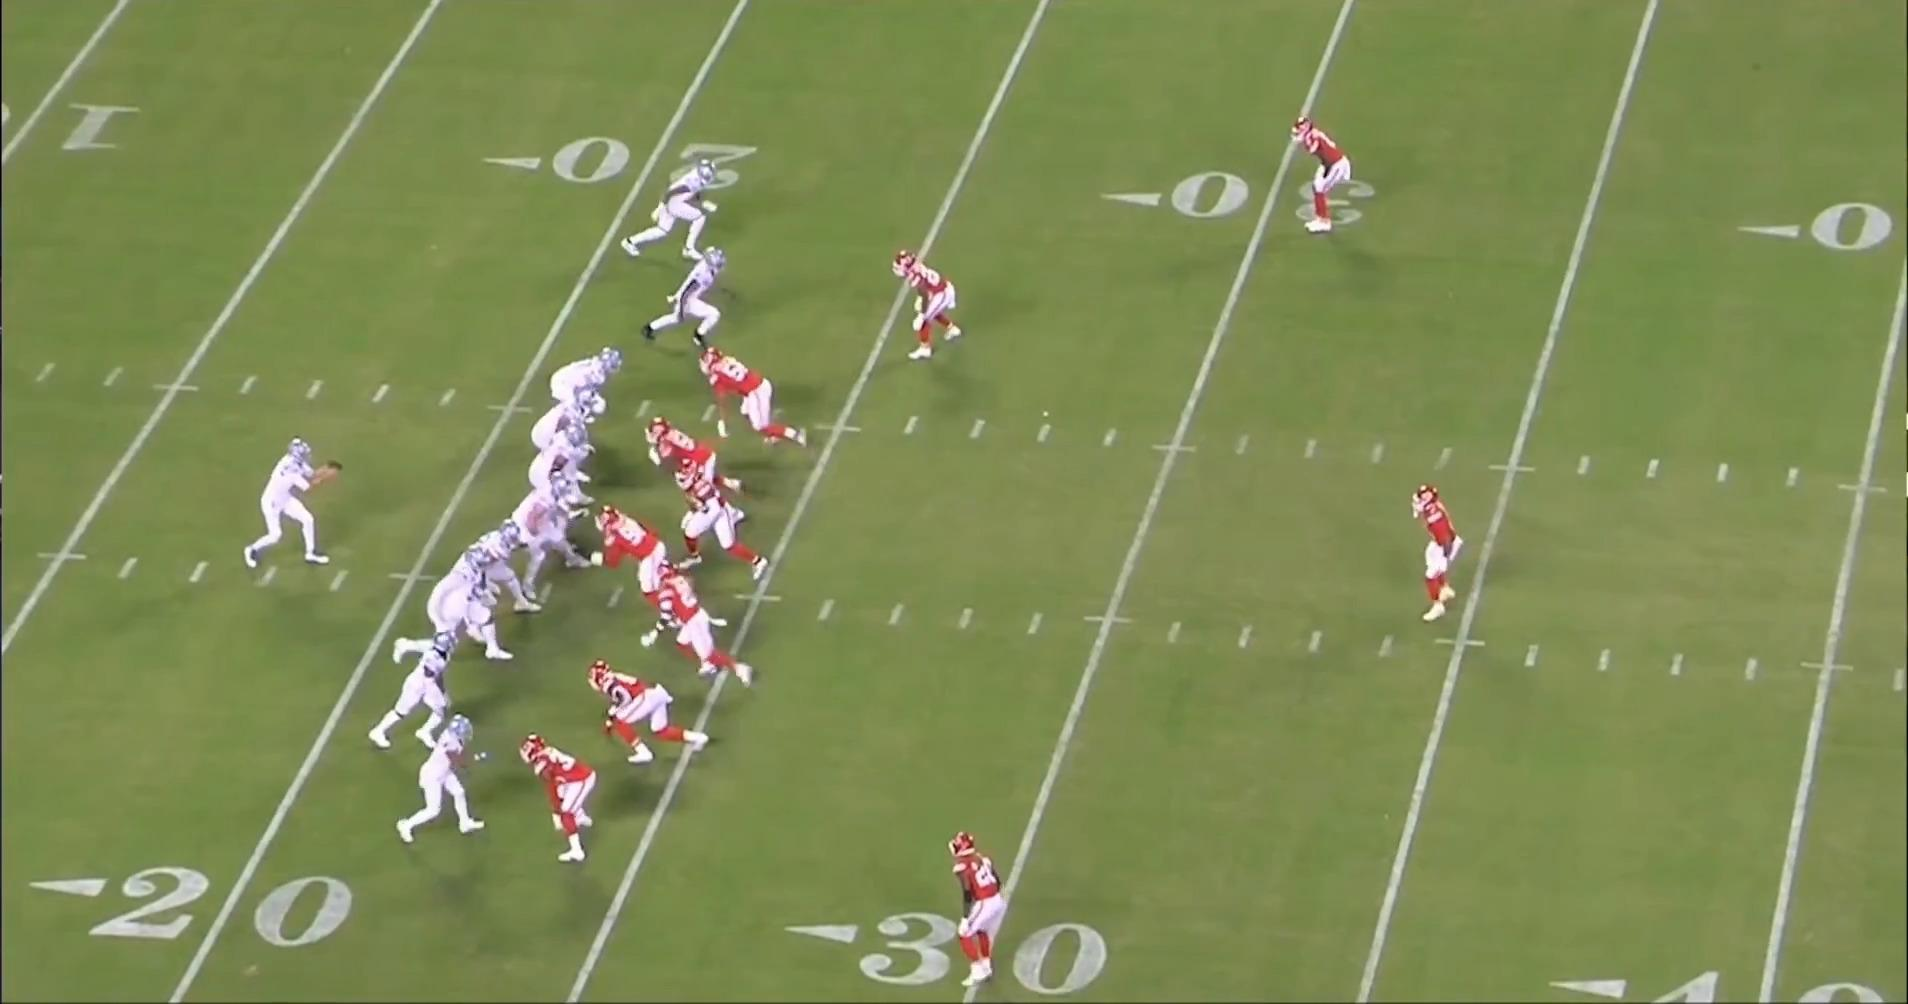defense: (592, 660, 716, 768), (648, 564, 755, 688), (587, 505, 688, 634), (674, 462, 779, 583), (940, 827, 1009, 1001), (701, 348, 815, 453), (510, 732, 593, 870), (653, 416, 756, 505), (1293, 114, 1361, 242), (1410, 487, 1470, 631), (894, 248, 963, 365)
oline: (407, 557, 514, 674), (509, 478, 598, 599), (463, 524, 544, 624), (523, 430, 598, 519), (526, 392, 594, 454)
qb: (246, 429, 352, 576)
skill: (386, 708, 481, 849), (374, 629, 469, 756), (615, 156, 720, 269), (643, 246, 736, 354), (547, 350, 625, 416)
